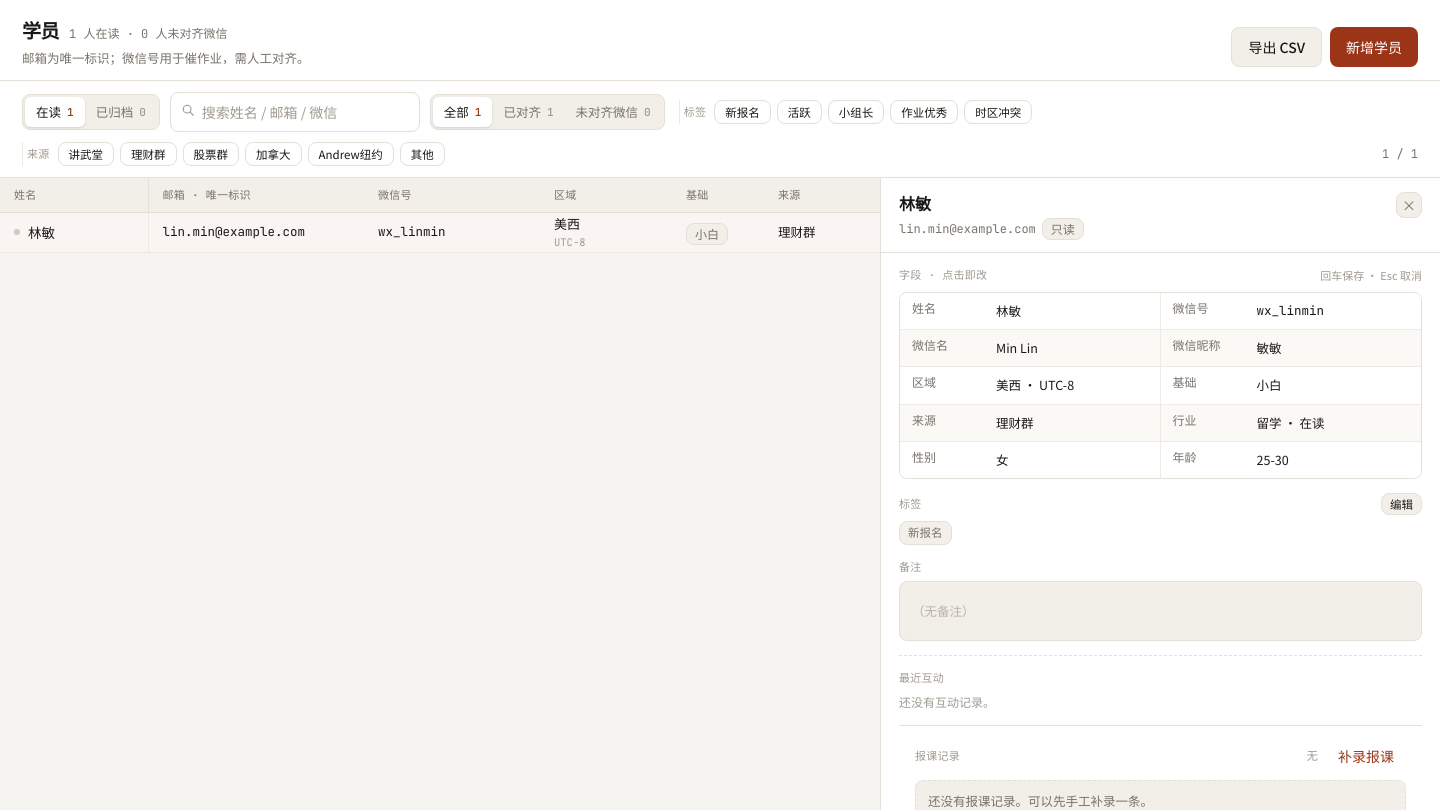
Test: in-progress state is visible, not only announced › shows a spinner while the note is being saved
This screenshot has width=1440, height=810.
Click the button "（无备注）". click: (943, 610)
box: [899, 581, 1422, 641]
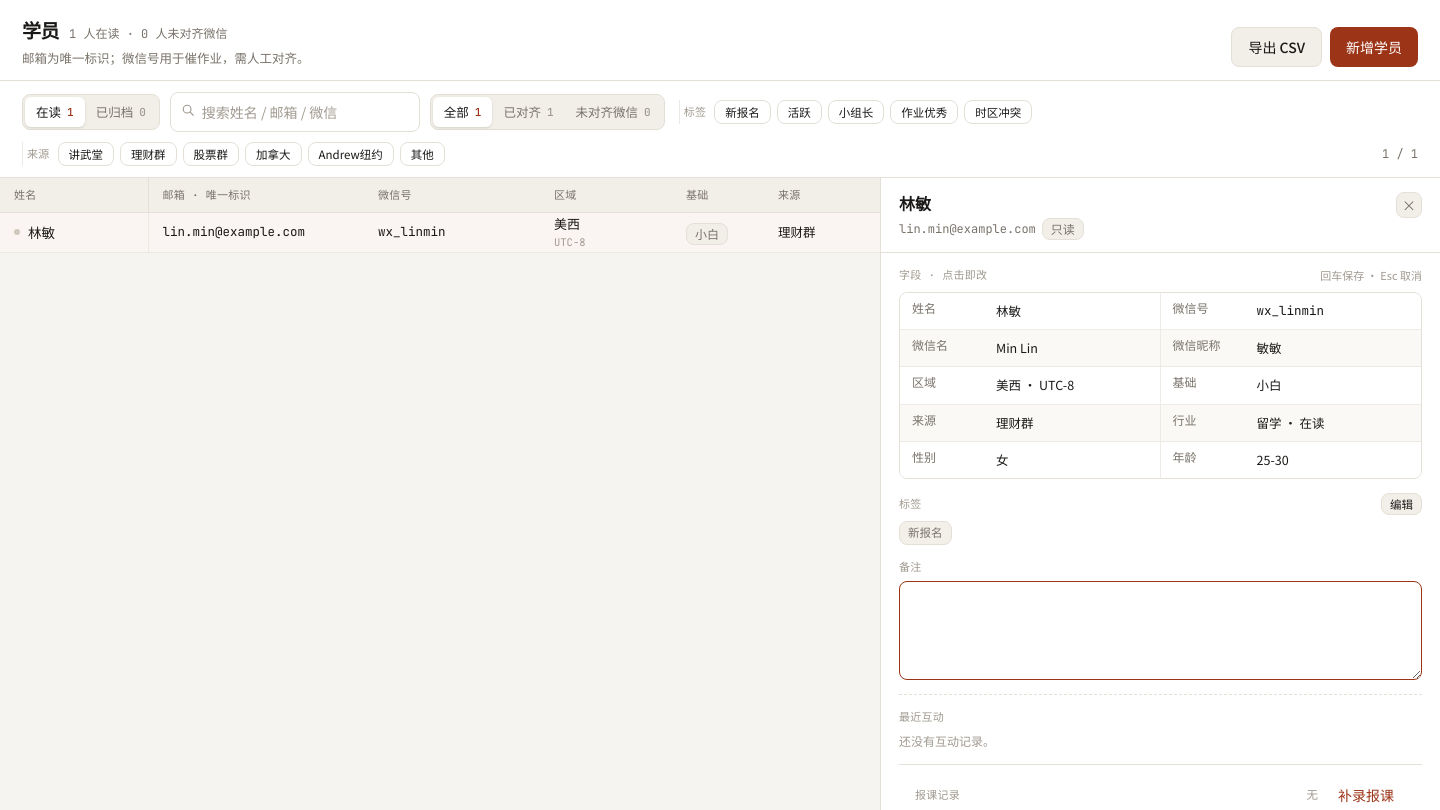
Type "写点东西" into the text box. click: (1160, 631)
box: [899, 581, 1422, 680]
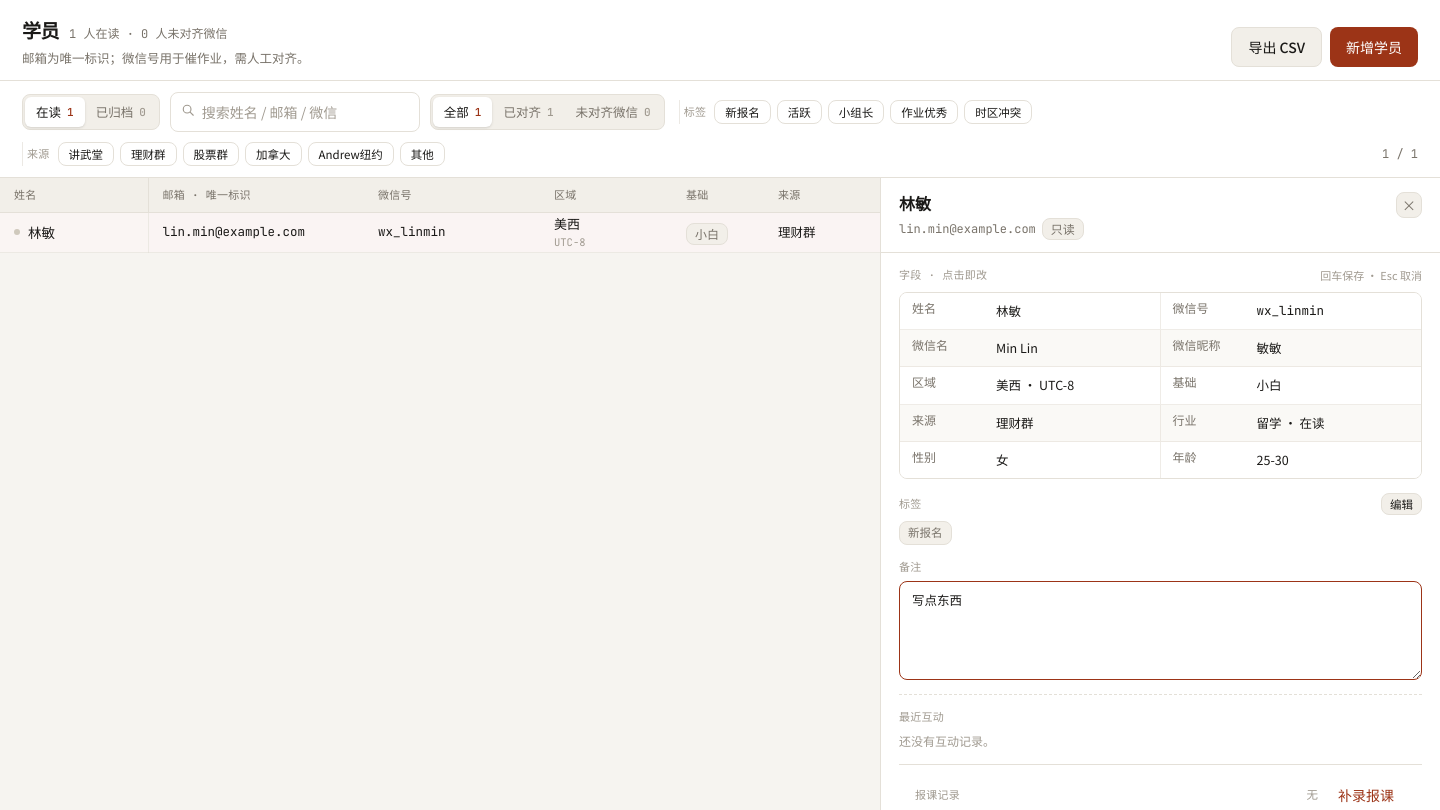
Press Tab
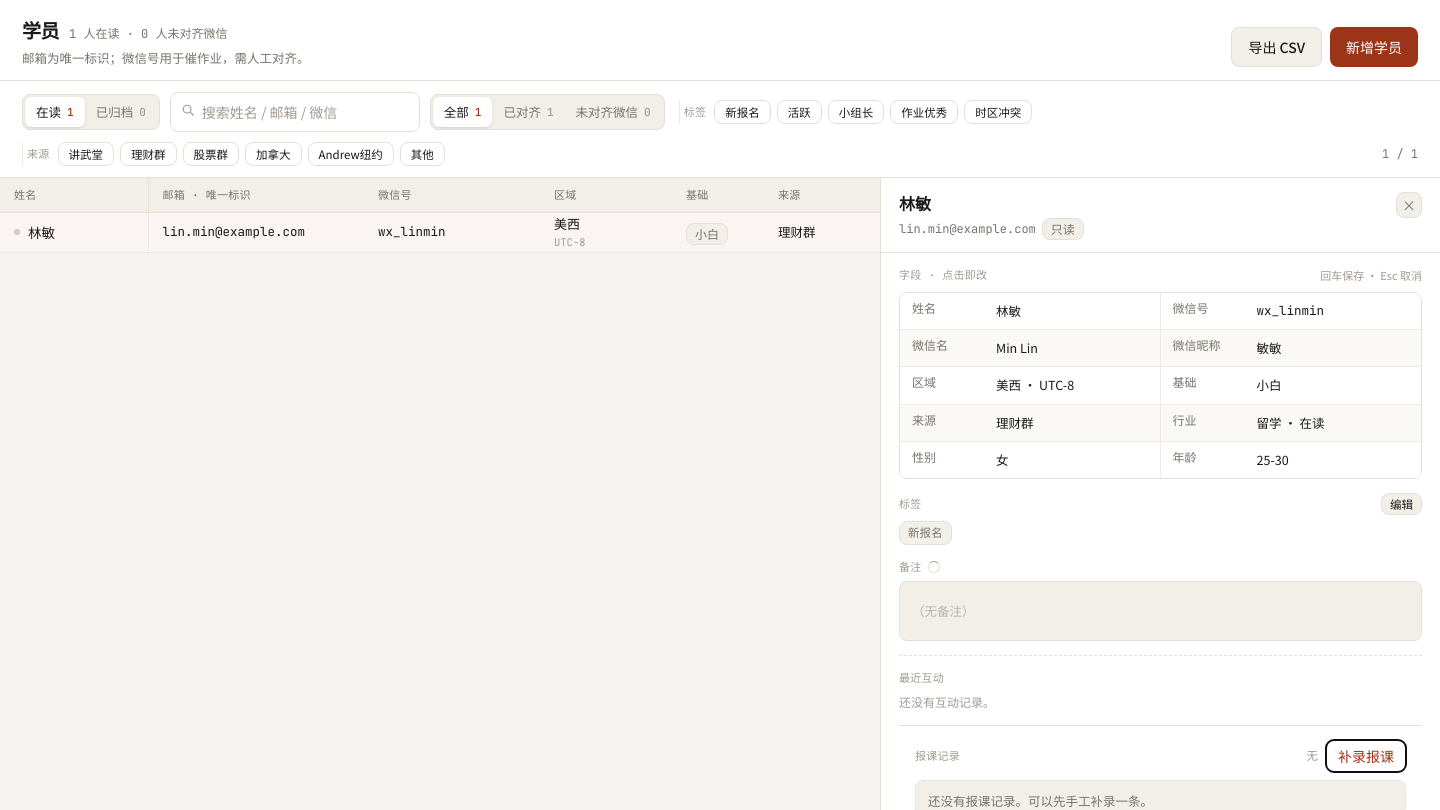
Now the element with test id "saving-spinner" is shown, box [928, 561, 940, 573]
